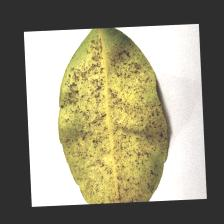canker: (62, 38, 157, 170)
